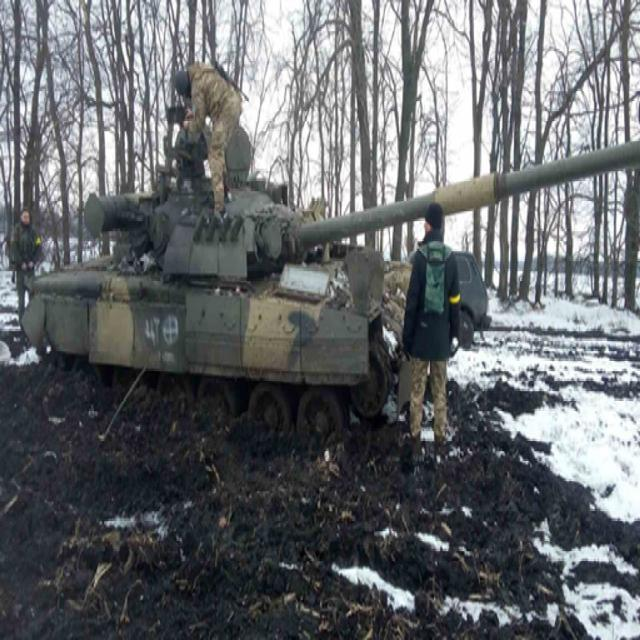CAR: (382, 244, 490, 354)
TANK: (27, 118, 638, 456)
